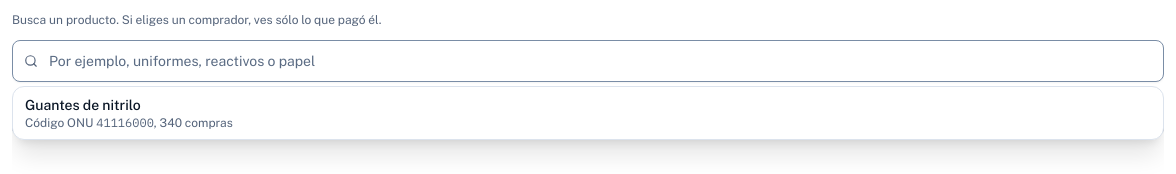
Test: TabPrecio › el producto se elige con el teclado: Tab baja a la opción sin cerrar la lista
This screenshot has width=1176, height=174.
Click the field named "Producto": (588, 61) [12,40,1164,82]
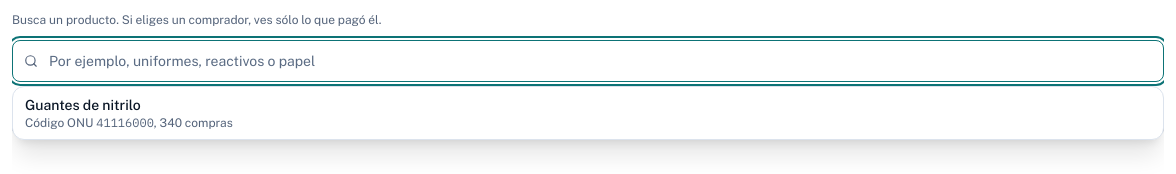
Press Tab
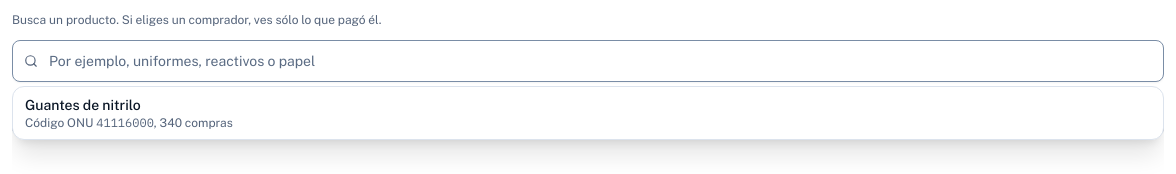
Press Enter
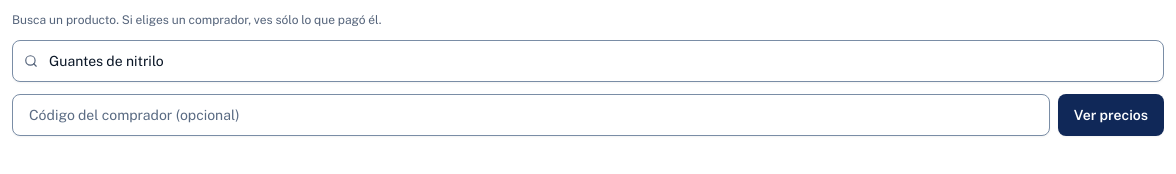
Now the field named "Producto" holds "Guantes de nitrilo", box [12,40,1164,82]
Now the button "Ver precios" is enabled, box [1058,94,1164,136]
